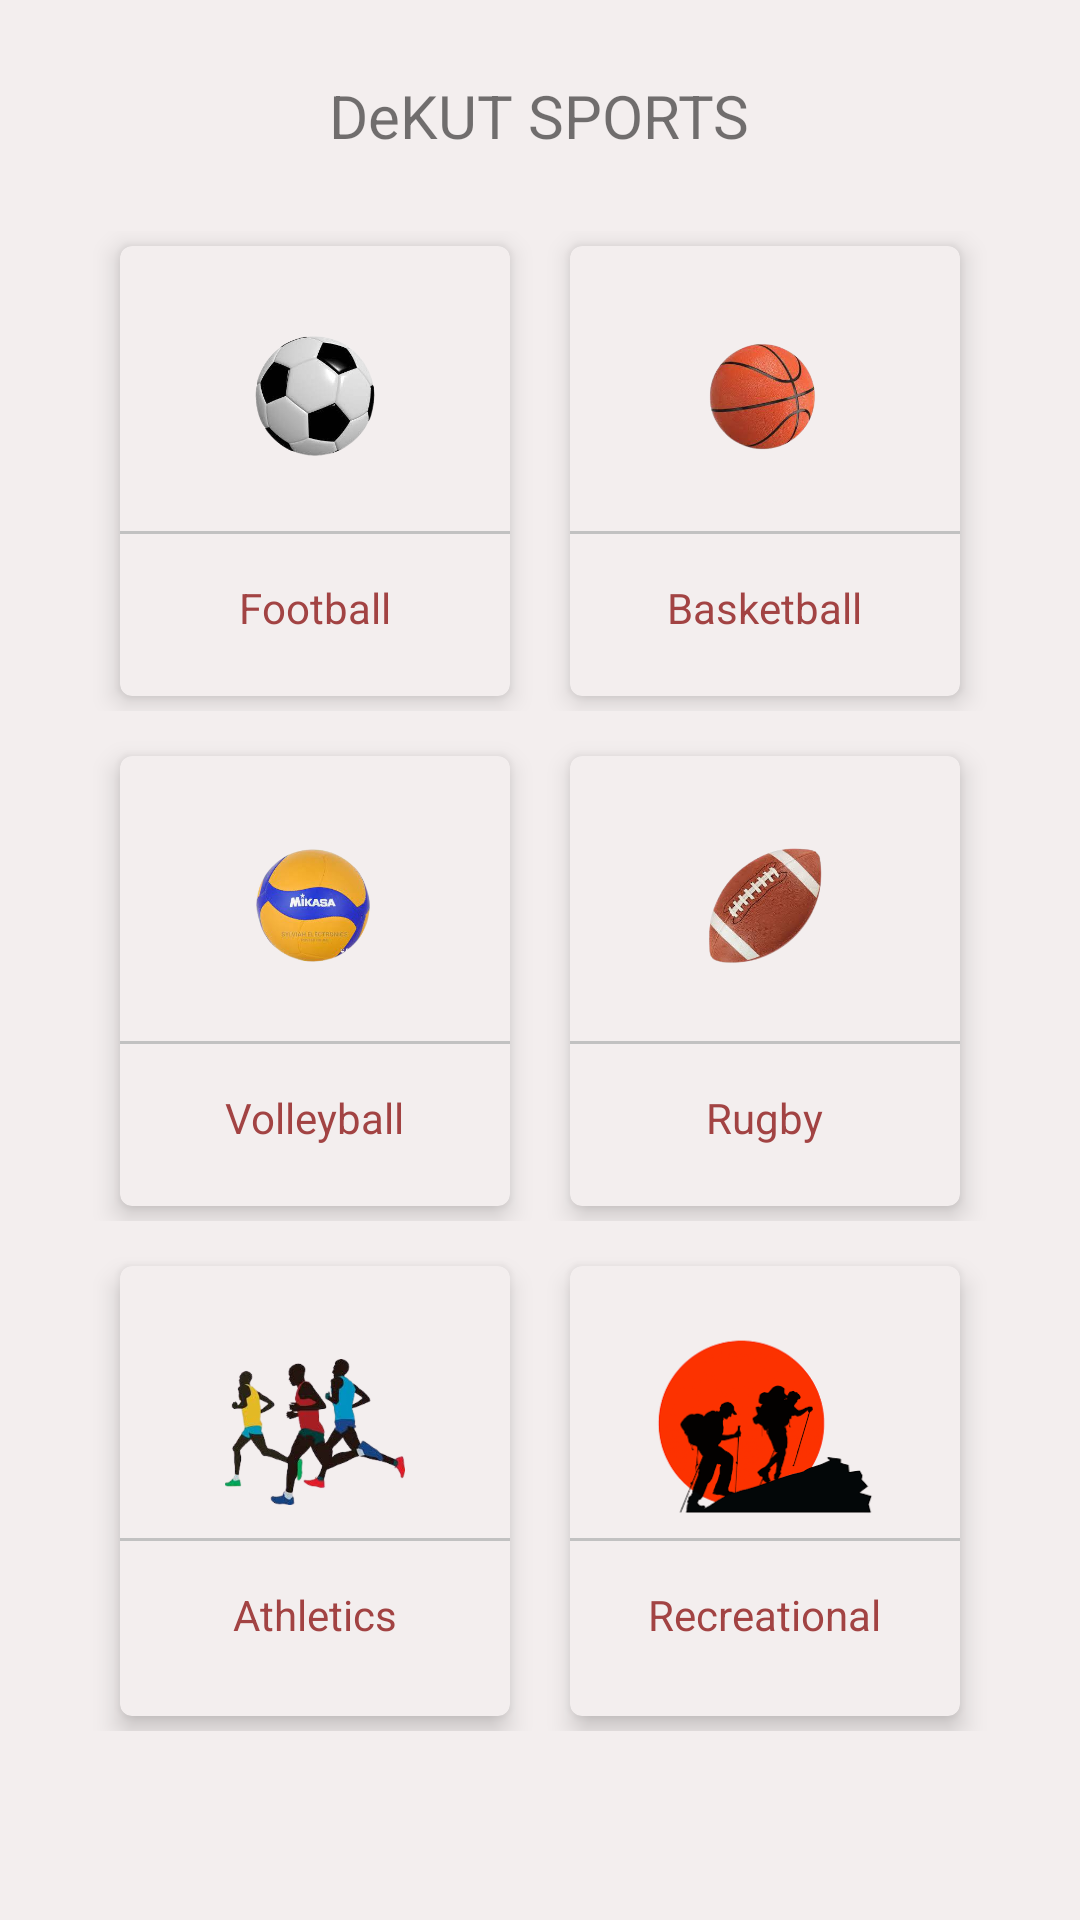

Where icons sit on this 1080 × 1920 app screen, as [x1=x1, y1=y1, x2=x2, y2=y2]:
climb: [x1=658, y1=1340, x2=872, y2=1513]
run: [x1=225, y1=1359, x2=405, y2=1505]
